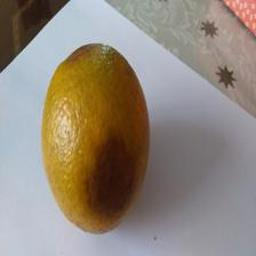Orange Semirotten: (32, 40, 163, 238)
